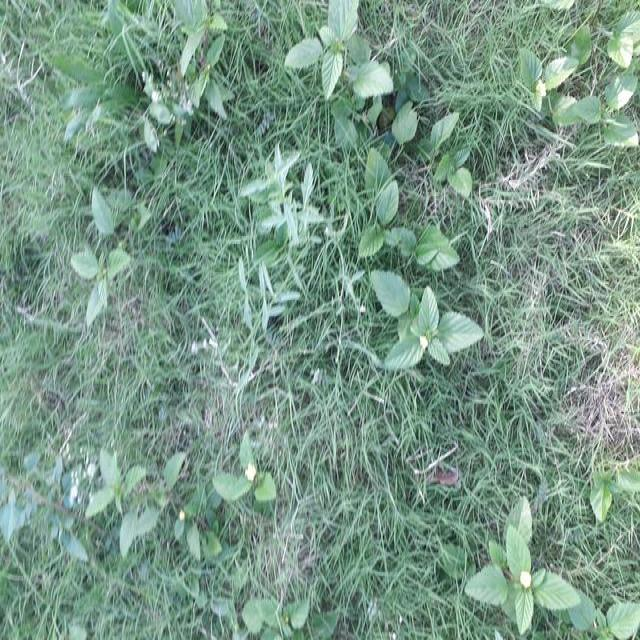weed: (119, 24, 268, 120), (357, 270, 479, 380), (86, 455, 210, 562), (287, 0, 387, 115), (350, 164, 446, 280), (472, 525, 566, 632), (70, 193, 142, 331), (250, 158, 322, 246), (229, 263, 300, 328)
